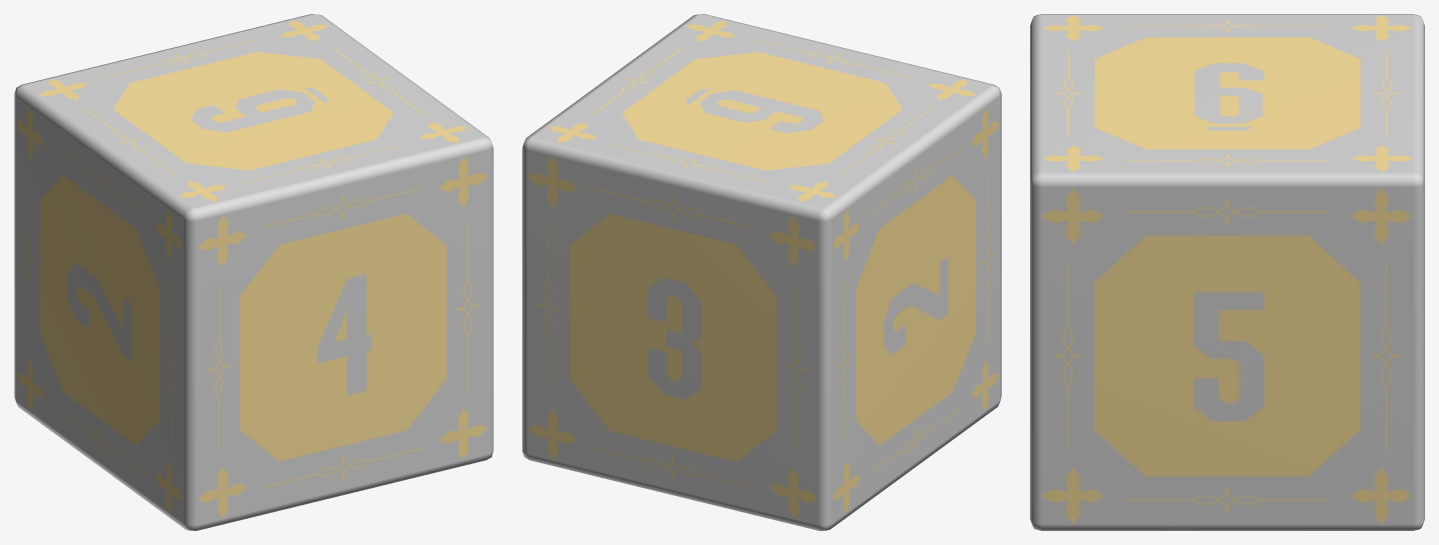
Rendered from dicemodel_d6.gltf.
The picture shows the model from 3 angles, left to right: view 1: azimuth 30°, elevation 25°; view 2: azimuth 150°, elevation 25°; view 3: azimuth 270°, elevation 25°; orthographic projection. The views are drawn at different scales.
Visible parts, largest first — view 1: dicemodel_d6; view 2: dicemodel_d6; view 3: dicemodel_d6.
Boxes of the visible parts, <box> form: dicemodel_d6: <box>14,14,493,530</box>; dicemodel_d6: <box>522,14,1001,530</box>; dicemodel_d6: <box>1030,14,1424,530</box>.
Size of the model in its own units: 101 by 101 by 101.
Materials: 1 (1 with a texture image).
